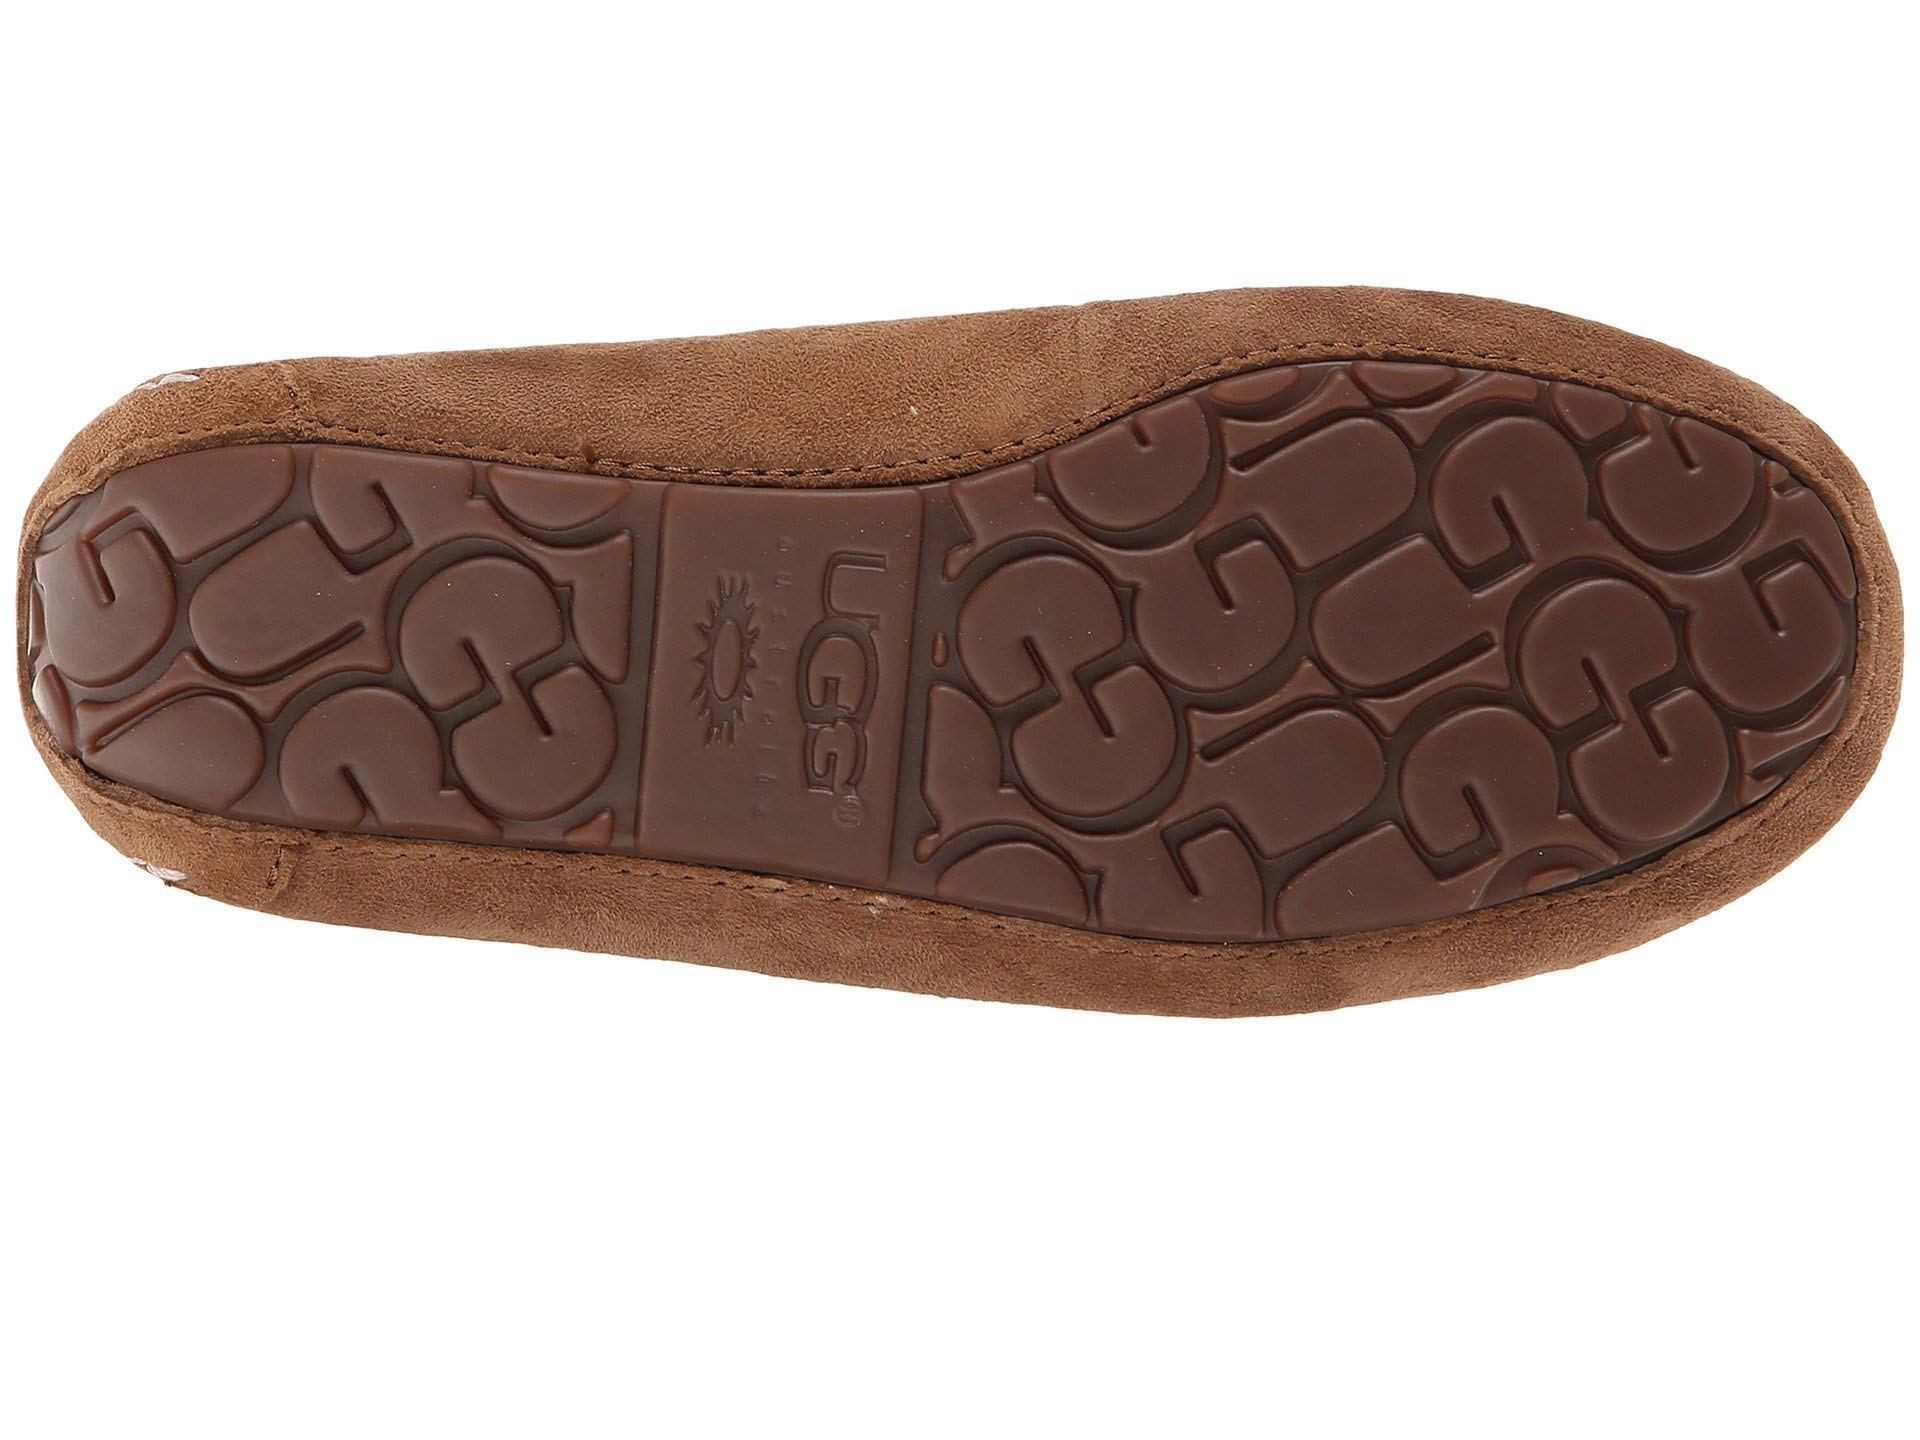circle: (670, 558, 803, 750)
star: (670, 558, 803, 750)
text: (1144, 389, 1596, 898), (358, 460, 661, 818), (768, 516, 986, 846)
